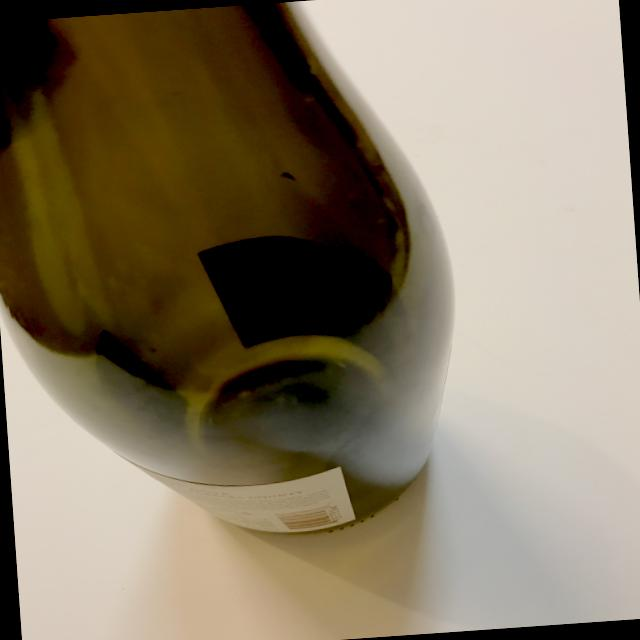Glass: (0, 0, 478, 563)
